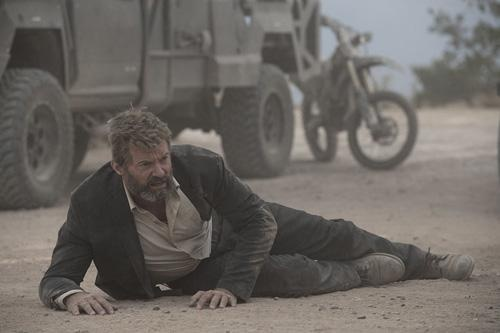falling: (14, 113, 494, 316)
